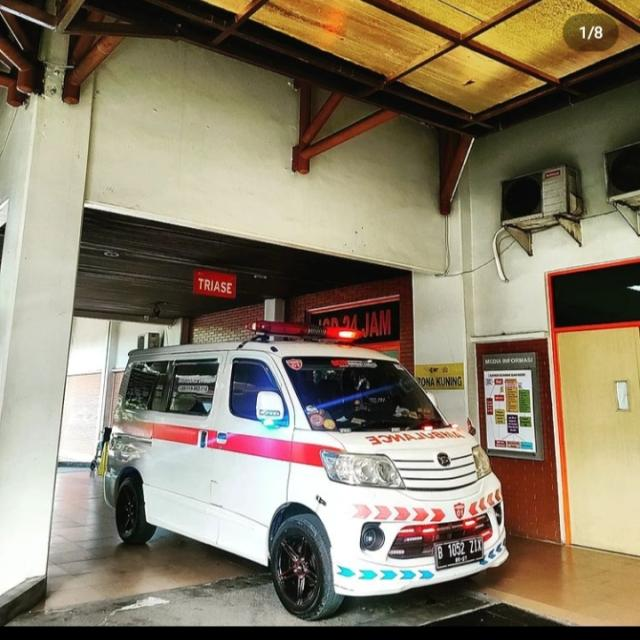emergency-vehicle: (97, 320, 511, 614)
